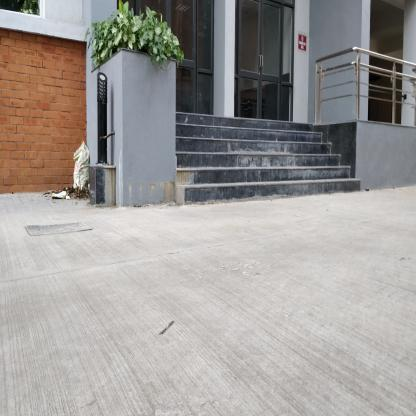stairs: (178, 121, 323, 210)
